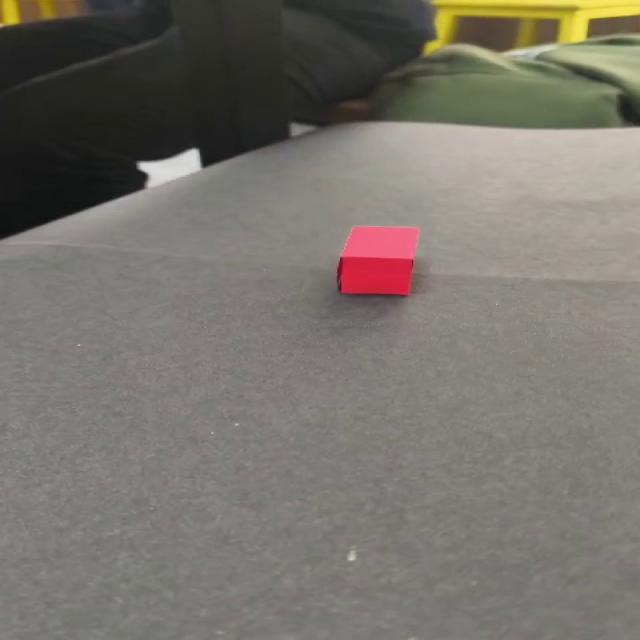red block: (335, 224, 420, 296)
